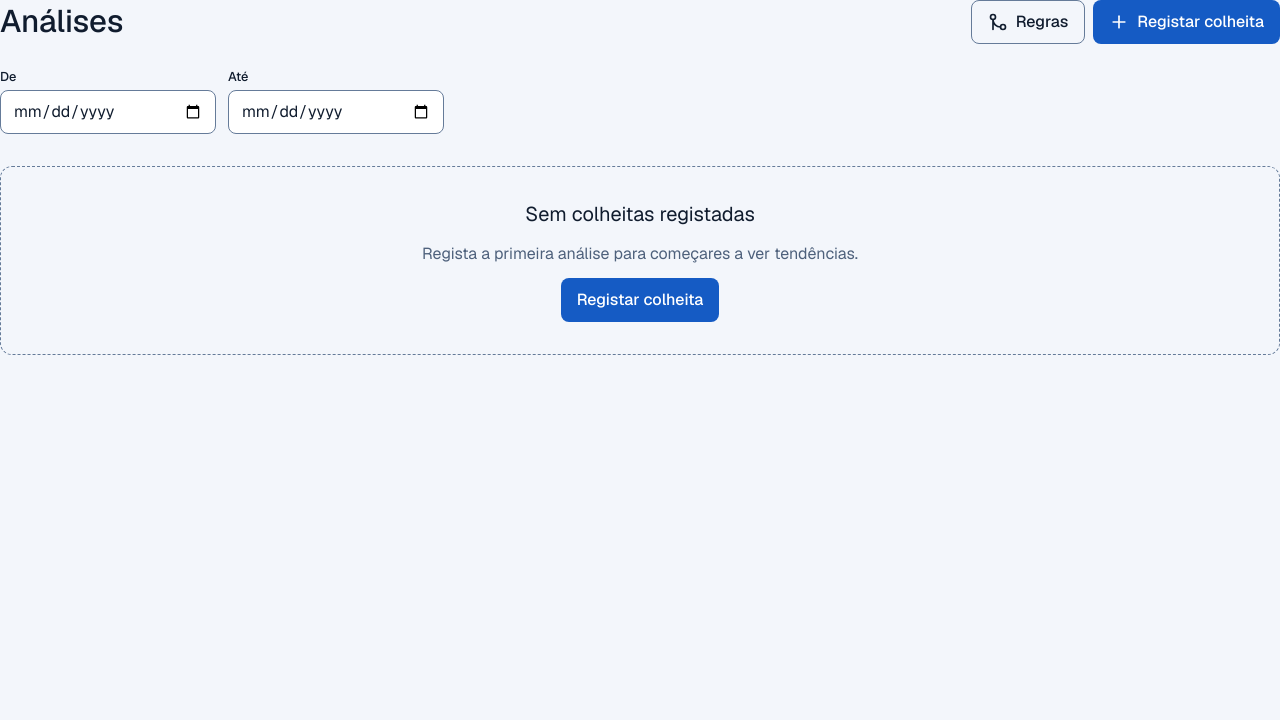
Scenario: Reports › opens the manual entry form
Click the button "Registar colheita" next to "Regras". click: (1187, 22)
box: [1093,0,1279,44]
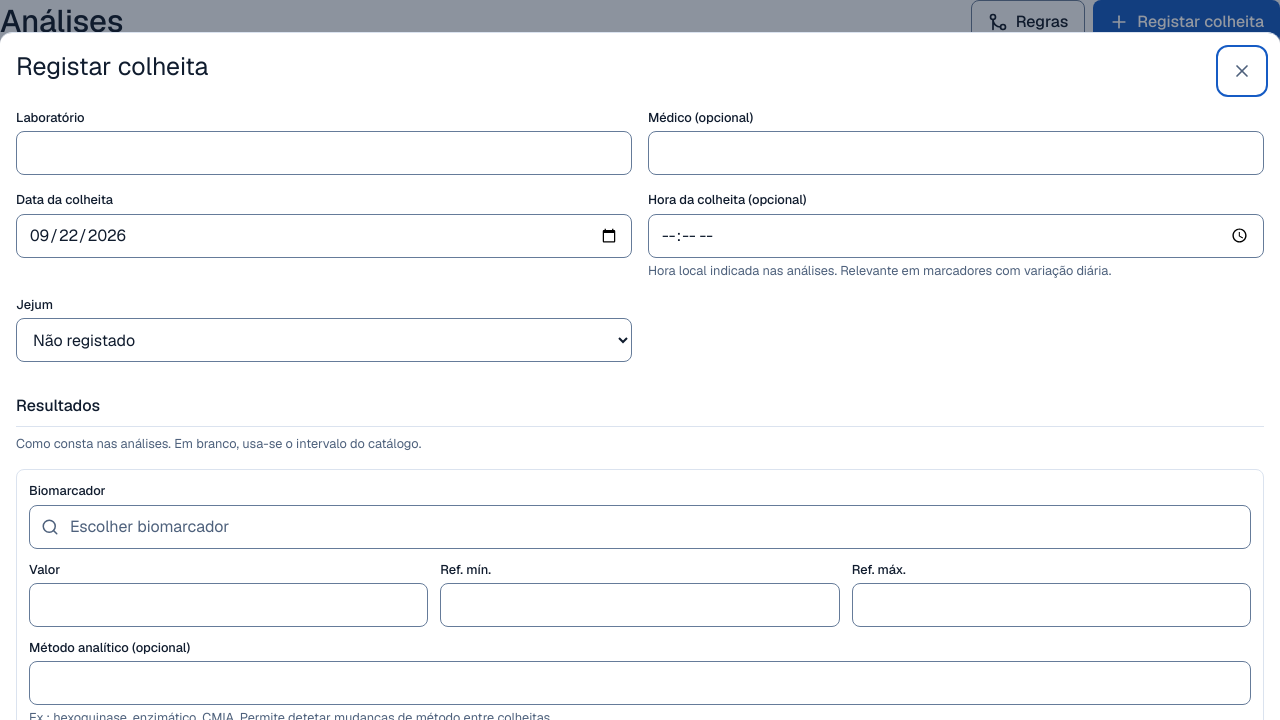
Expected: the dialog is shown
Expected: the date field labelled "Data da colheita" is shown, [16,214,632,258]
Expected: the dropdown labelled "Biomarcador" is shown, [29,505,1251,549]
